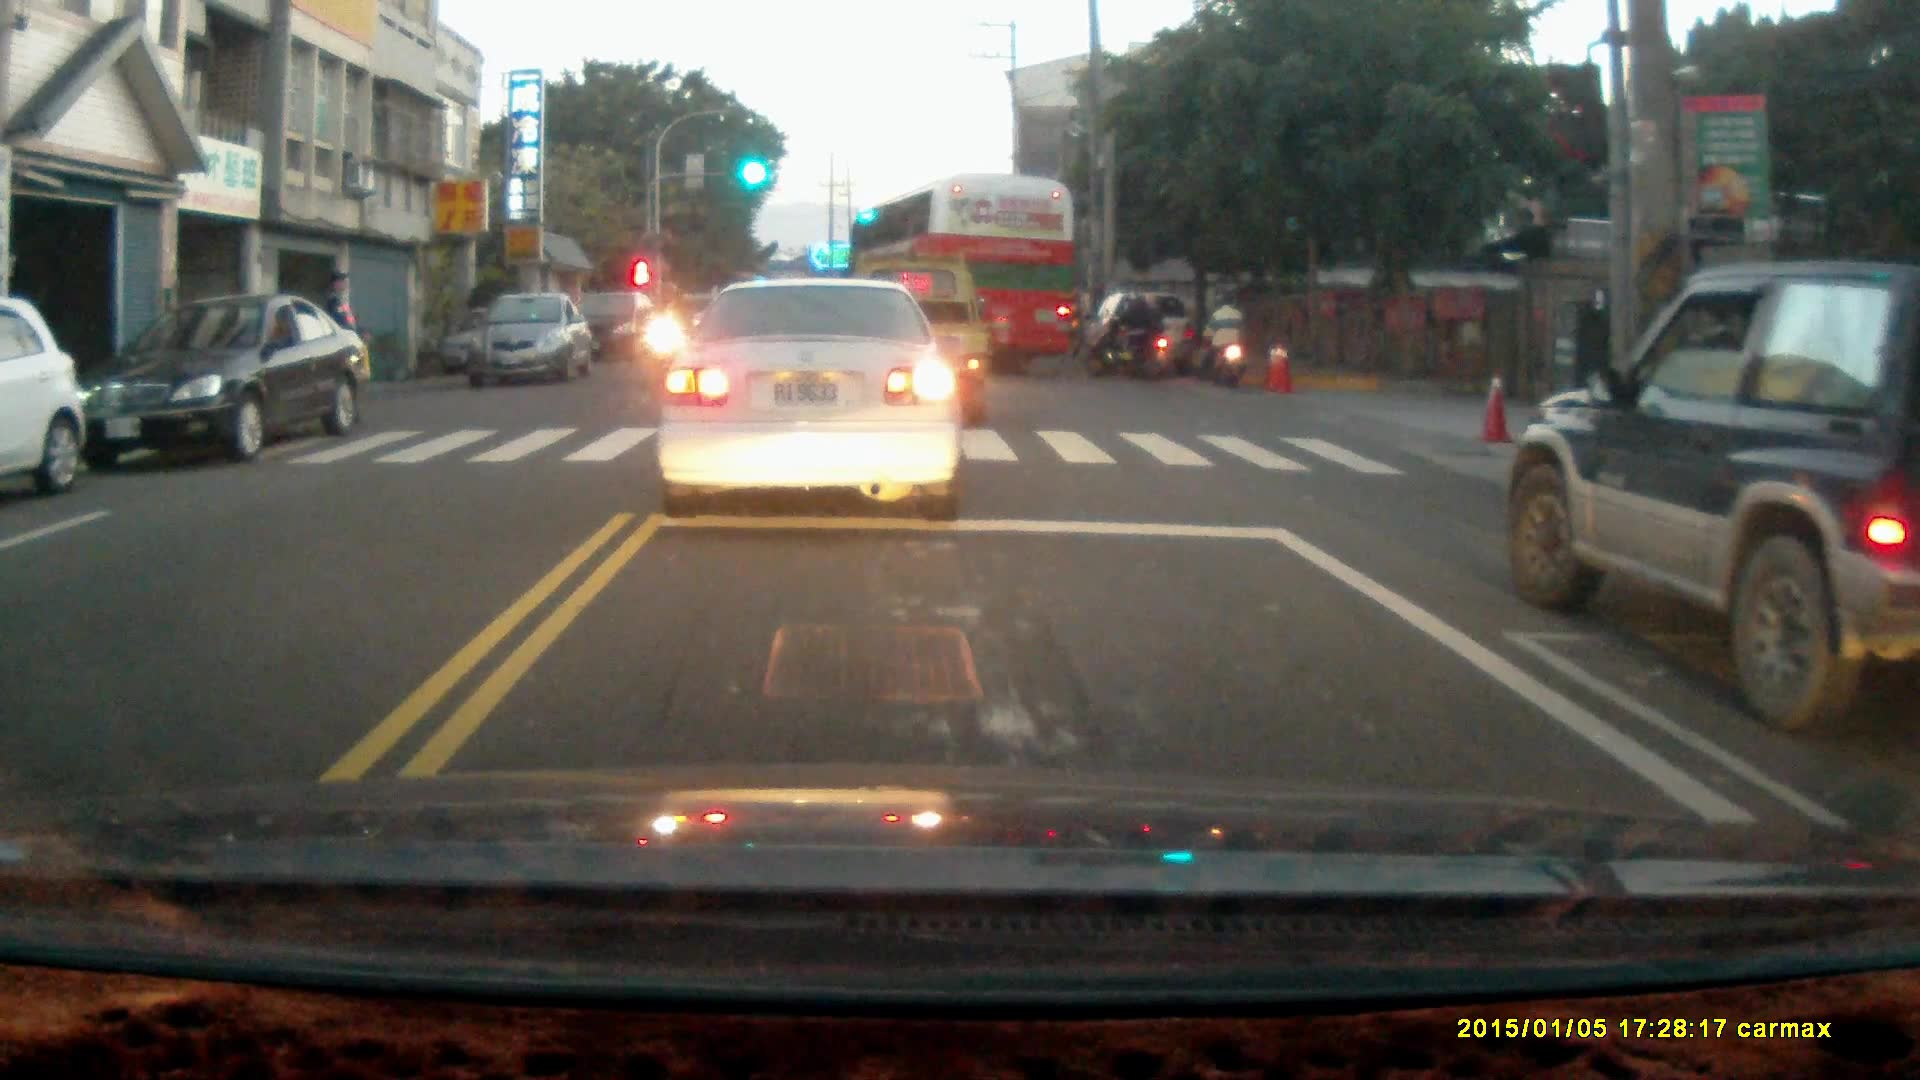pedestrian: (318, 269, 363, 420)
rider: (1088, 290, 1166, 380), (645, 279, 698, 388), (1192, 290, 1245, 390)
vehicle: (1509, 260, 1920, 732), (660, 277, 963, 527), (74, 297, 372, 471), (847, 171, 1080, 379), (1, 299, 91, 496), (456, 293, 598, 389), (1093, 290, 1211, 380), (571, 297, 663, 370)
